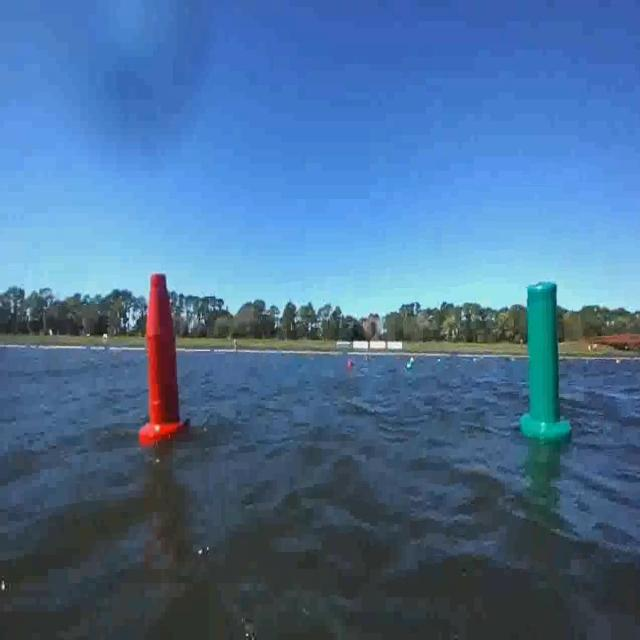green-column-buoy: (522, 280, 570, 442)
red-column-buoy: (141, 269, 185, 443)
